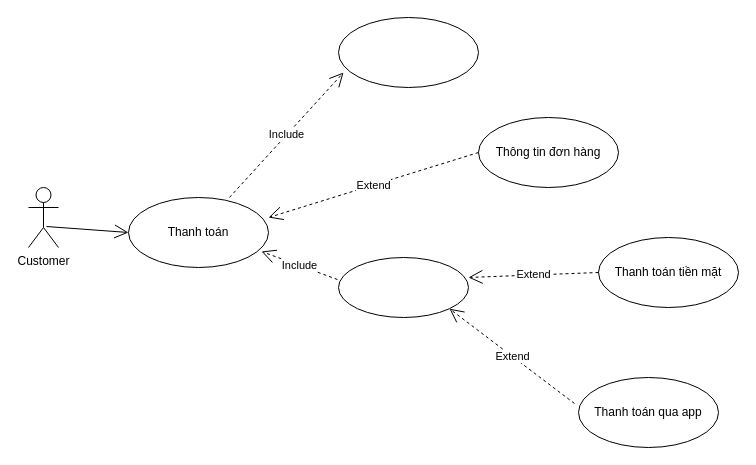
Image size: 756x465. Some labels were removed from this diagram. Each missing label, with the centre of its shape:
Hình thức thanh toán: the point at 403,287
Đăng nhập: the point at 408,52
